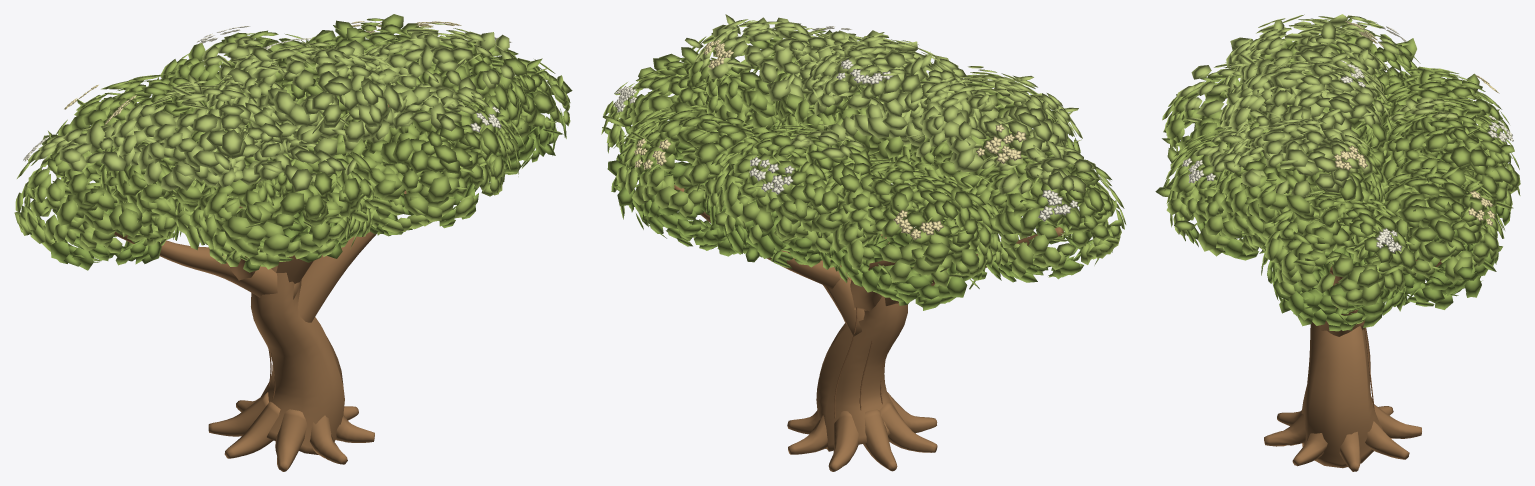
Rendered from courtyard_tree.fbx.
The picture shows the model from 3 angles, left to right: view 1: azimuth 30°, elevation 25°; view 2: azimuth 150°, elevation 25°; view 3: azimuth 270°, elevation 25°; orthographic projection. The views are drawn at different scales.
Parts seen in each view (by area): view 1: courtyard_tree • Courtyard foliage • garden green, courtyard_tree • Courtyard foliage • warm upper leaves, courtyard_tree • Courtyard bark • warm ochre, courtyard_tree • Courtyard foliage • soft shade, courtyard_tree • Courtyard blossom • pale cream; view 2: courtyard_tree • Courtyard foliage • garden green, courtyard_tree • Courtyard foliage • warm upper leaves, courtyard_tree • Courtyard bark • warm ochre, courtyard_tree • Courtyard foliage • soft shade, courtyard_tree • Courtyard blossom • pale cream, courtyard_tree • Courtyard blossom • butter yellow; view 3: courtyard_tree • Courtyard foliage • garden green, courtyard_tree • Courtyard foliage • warm upper leaves, courtyard_tree • Courtyard bark • warm ochre, courtyard_tree • Courtyard foliage • soft shade, courtyard_tree • Courtyard blossom • pale cream, courtyard_tree • Courtyard blossom • butter yellow.
Part boxes in pixels (x1=…): courtyard_tree • Courtyard foliage • garden green: x1=14, y1=14, x2=572, y2=269; courtyard_tree • Courtyard foliage • warm upper leaves: x1=35, y1=23, x2=515, y2=191; courtyard_tree • Courtyard bark • warm ochre: x1=114, y1=104, x2=419, y2=471; courtyard_tree • Courtyard foliage • soft shade: x1=37, y1=79, x2=566, y2=272; courtyard_tree • Courtyard blossom • pale cream: x1=23, y1=26, x2=511, y2=161; courtyard_tree • Courtyard foliage • garden green: x1=601, y1=31, x2=1126, y2=287; courtyard_tree • Courtyard foliage • warm upper leaves: x1=685, y1=14, x2=1096, y2=194; courtyard_tree • Courtyard bark • warm ochre: x1=674, y1=183, x2=1063, y2=471; courtyard_tree • Courtyard foliage • soft shade: x1=602, y1=96, x2=1112, y2=310; courtyard_tree • Courtyard blossom • pale cream: x1=614, y1=26, x2=1077, y2=221; courtyard_tree • Courtyard blossom • butter yellow: x1=634, y1=39, x2=1026, y2=240; courtyard_tree • Courtyard foliage • garden green: x1=1155, y1=18, x2=1520, y2=309; courtyard_tree • Courtyard foliage • warm upper leaves: x1=1177, y1=14, x2=1458, y2=198; courtyard_tree • Courtyard bark • warm ochre: x1=1264, y1=259, x2=1441, y2=471; courtyard_tree • Courtyard foliage • soft shade: x1=1183, y1=96, x2=1512, y2=331; courtyard_tree • Courtyard blossom • pale cream: x1=1182, y1=26, x2=1513, y2=253; courtyard_tree • Courtyard blossom • butter yellow: x1=1333, y1=21, x2=1499, y2=226.
Size of the model in its own units: 8 by 5.84 by 5.02.
